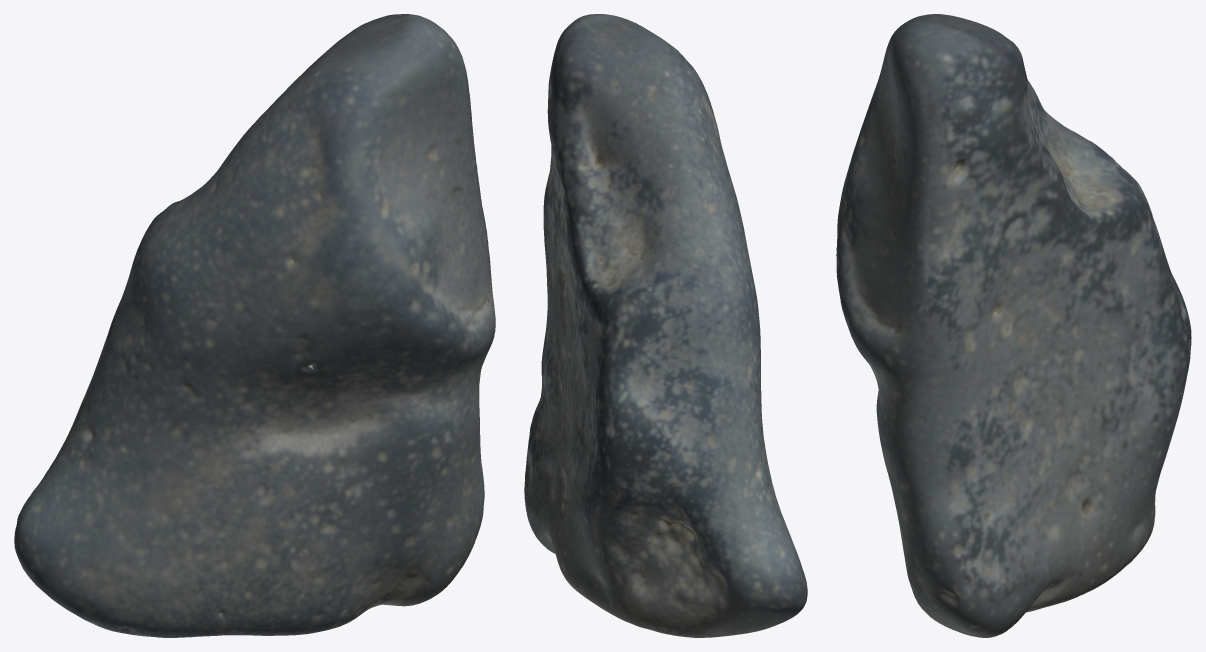
Rendered from stone.glb.
The picture shows the model from 3 angles, left to right: view 1: azimuth 30°, elevation 25°; view 2: azimuth 150°, elevation 25°; view 3: azimuth 270°, elevation 25°; orthographic projection. The views are drawn at different scales.
Parts seen in each view (by area): view 1: Object_2; view 2: Object_2; view 3: Object_2.
Part boxes in pixels (bbox=[...]): Object_2: bbox=[14, 14, 495, 637]; Object_2: bbox=[524, 14, 807, 637]; Object_2: bbox=[836, 14, 1191, 637].
Size of the model in its own units: 29.5 by 43.66 by 23.33.
Materials: 1 (1 with a texture image).
